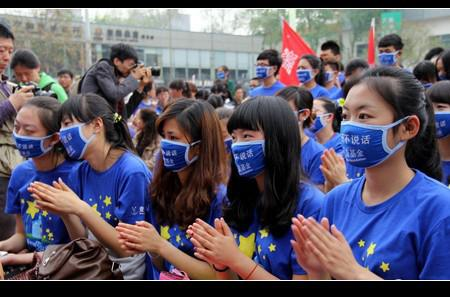NONE: (15, 68, 35, 87), (1, 45, 14, 73), (59, 76, 71, 87)
OK: (339, 108, 405, 167), (231, 129, 275, 178), (60, 119, 105, 162), (161, 129, 207, 171), (16, 119, 58, 161), (428, 100, 450, 139), (306, 108, 330, 133), (298, 66, 317, 85), (380, 48, 399, 66), (257, 62, 275, 81), (217, 69, 228, 80)
